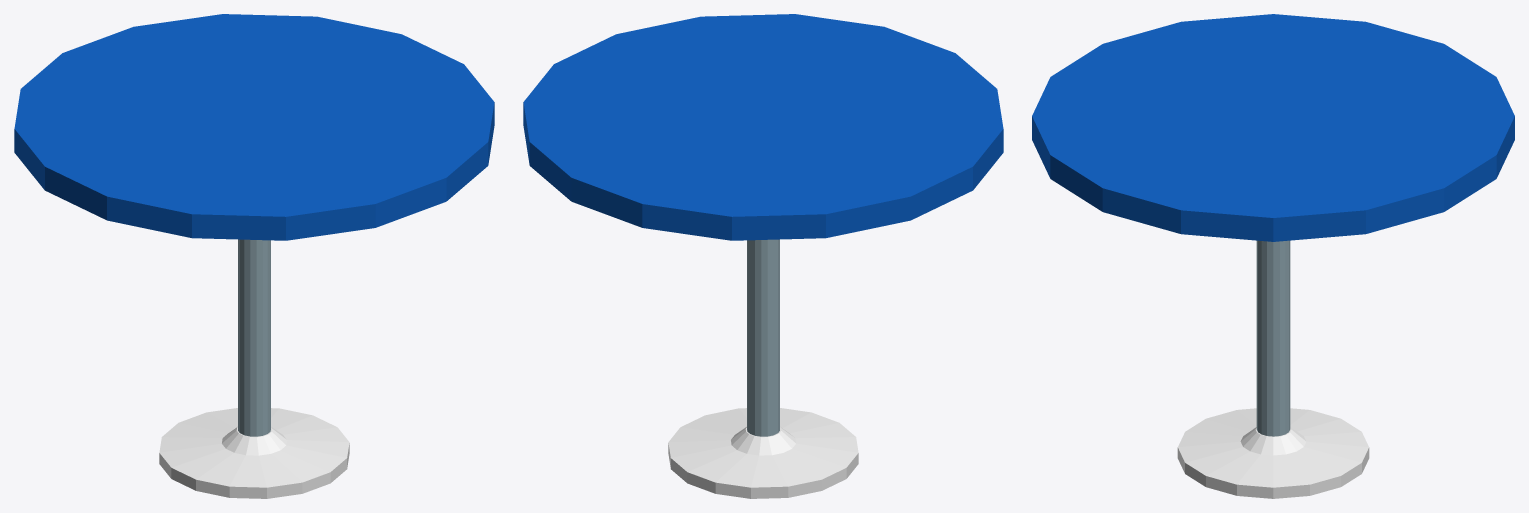
File: strongtable.fbx
3 renders of one model, left to right at view 1: azimuth 30°, elevation 25°; view 2: azimuth 150°, elevation 25°; view 3: azimuth 270°, elevation 25°, orthographic.
Parts seen in each view (by area): view 1: Cylinder.001; view 2: Cylinder.001; view 3: Cylinder.001.
Part boxes in pixels (x1=…): Cylinder.001: x1=14, y1=14, x2=494, y2=498; Cylinder.001: x1=523, y1=14, x2=1003, y2=498; Cylinder.001: x1=1032, y1=14, x2=1514, y2=498.
Size of the model in its own units: 162 by 127 by 162.
Materials: 1 (1 with a texture image).
